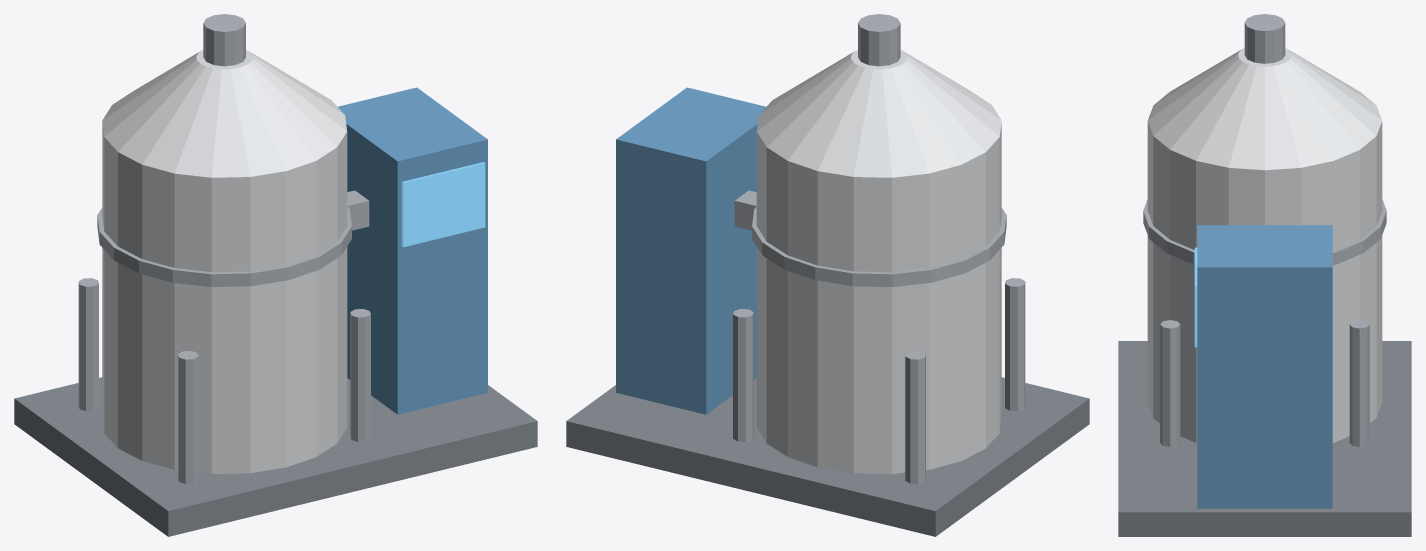
File: reactor.glb
3 views of the same model, side by side, from view 1: azimuth 30°, elevation 25°; view 2: azimuth 150°, elevation 25°; view 3: azimuth 270°, elevation 25° (orthographic). The views are drawn at different scales.
Parts seen in each view (by area): view 1: Reactor; view 2: Reactor; view 3: Reactor.
Part boxes in pixels (box(x1,y1,x2,y2)): Reactor: box(14, 14, 537, 536); Reactor: box(566, 14, 1089, 536); Reactor: box(1118, 14, 1411, 536).
Size of the model in its own units: 1800 by 1980 by 1300.
